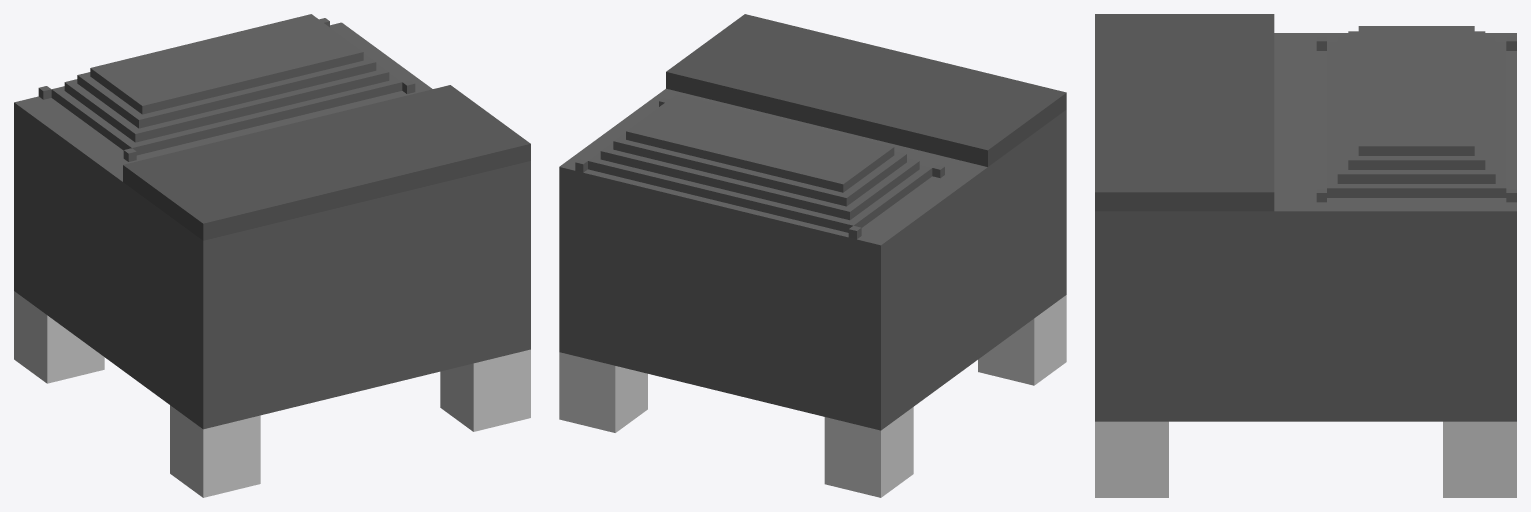
The model's file is bedpillow.obj.
The picture shows the model from 3 angles, left to right: view 1: azimuth 30°, elevation 25°; view 2: azimuth 150°, elevation 25°; view 3: azimuth 270°, elevation 25°; orthographic projection. The views are drawn at different scales.
Visible parts, largest first — view 1: bedpillow; view 2: bedpillow; view 3: bedpillow.
Boxes of the visible parts, x1=… form: bedpillow: x1=14, y1=14, x2=530, y2=497; bedpillow: x1=559, y1=14, x2=1066, y2=497; bedpillow: x1=1095, y1=14, x2=1516, y2=497.
Size of the model in its own units: 40 by 34 by 40.
